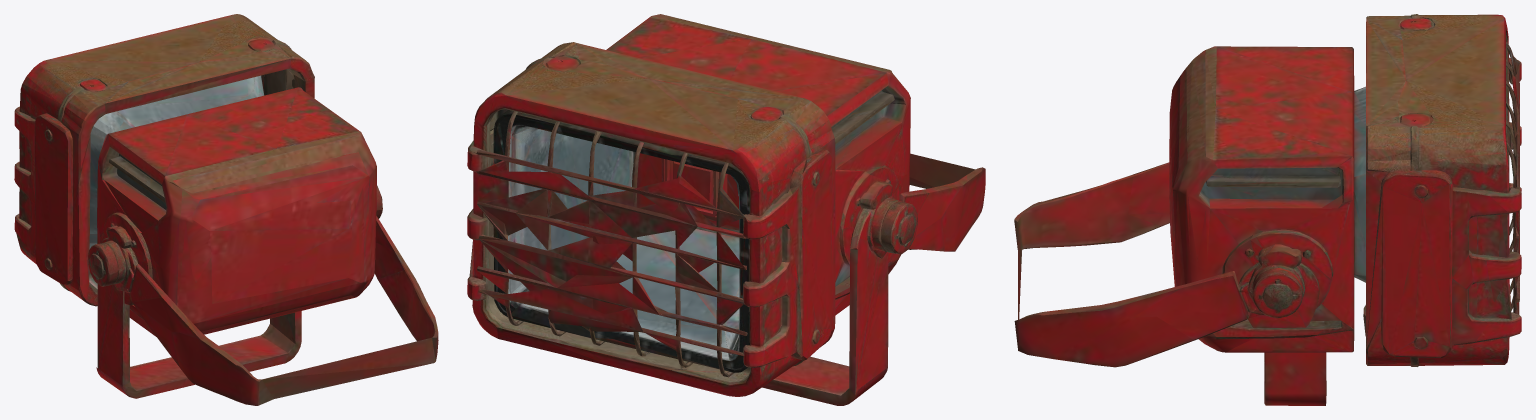
Rendered from lampada_emergenza.glb.
The picture shows the model from 3 angles, left to right: view 1: azimuth 30°, elevation 25°; view 2: azimuth 150°, elevation 25°; view 3: azimuth 270°, elevation 25°; orthographic projection. The views are drawn at different scales.
Visible parts, largest first — view 1: Mesh_0; view 2: Mesh_0; view 3: Mesh_0.
Boxes of the visible parts, box(x1,y1,x2,y2) form: Mesh_0: box(14, 14, 438, 405); Mesh_0: box(467, 14, 985, 405); Mesh_0: box(1014, 14, 1521, 405).
Bounding box in the file's own units: 0.3168 × 0.2819 × 0.42.
1 material, 1 textured.
